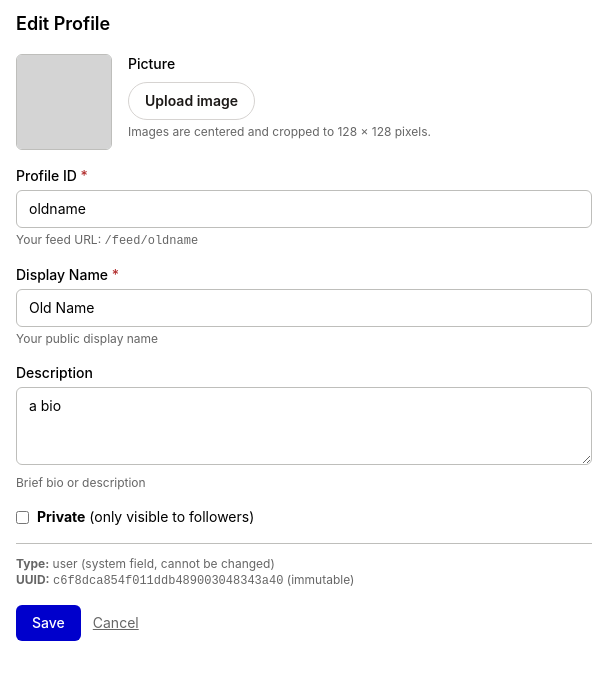
ProfileForm › warns about broken old links when the id changes
Expected: the text "will stop working" is not shown
Replace the text in the field labelled "Profile ID *" with "newname" at [304, 209], box x1=16 y1=190 x2=592 y2=228
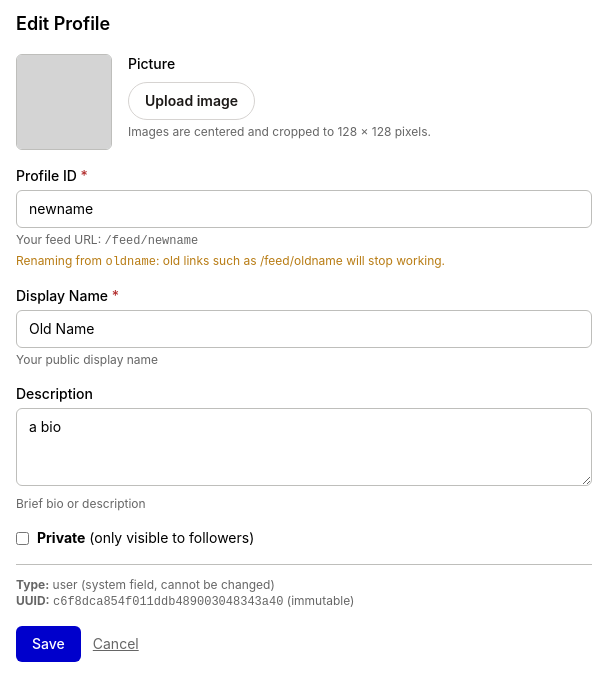
Result: the text "old links" shows "/feed/oldname will stop working" at x1=16 y1=253 x2=445 y2=269
